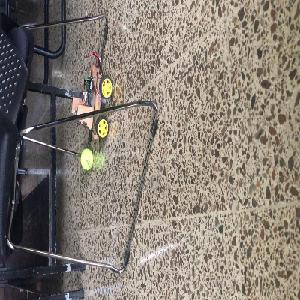Ball: (81, 148, 93, 170)
Robot: (71, 63, 113, 139)
